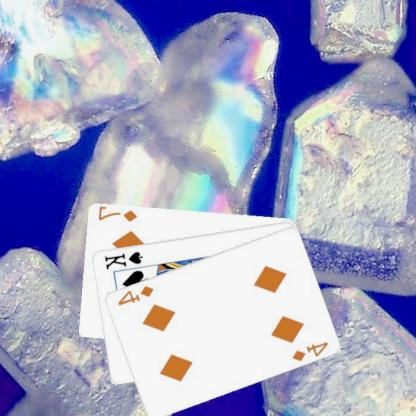4D: (116, 282, 156, 307), (291, 338, 331, 362)
7D: (97, 205, 140, 223)
KS: (102, 248, 146, 270)
